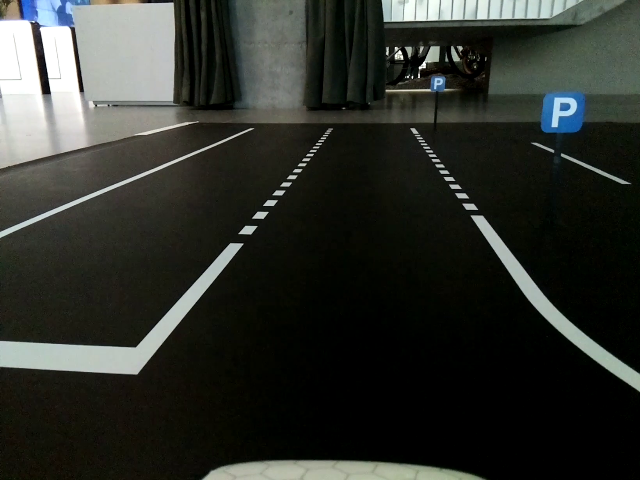park: (540, 92, 586, 132), (431, 75, 446, 92)
